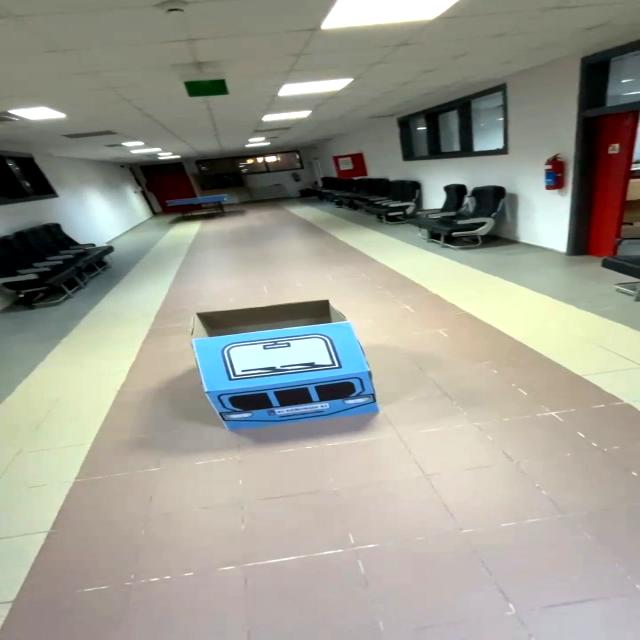blue_car: (156, 289, 414, 440)
